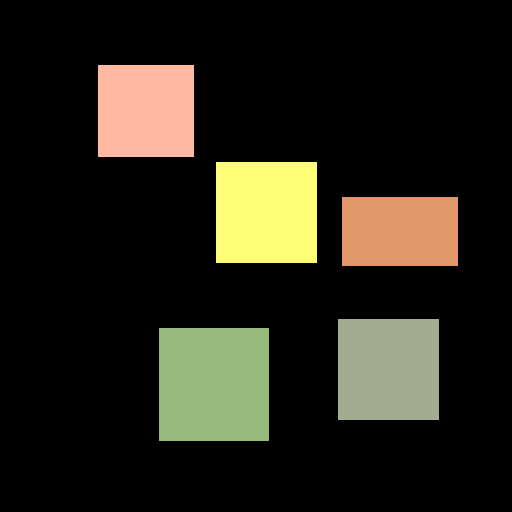rectangle: (342, 197, 457, 265)
square: (159, 328, 268, 440), (338, 319, 438, 419), (216, 162, 316, 262), (98, 65, 193, 156)
